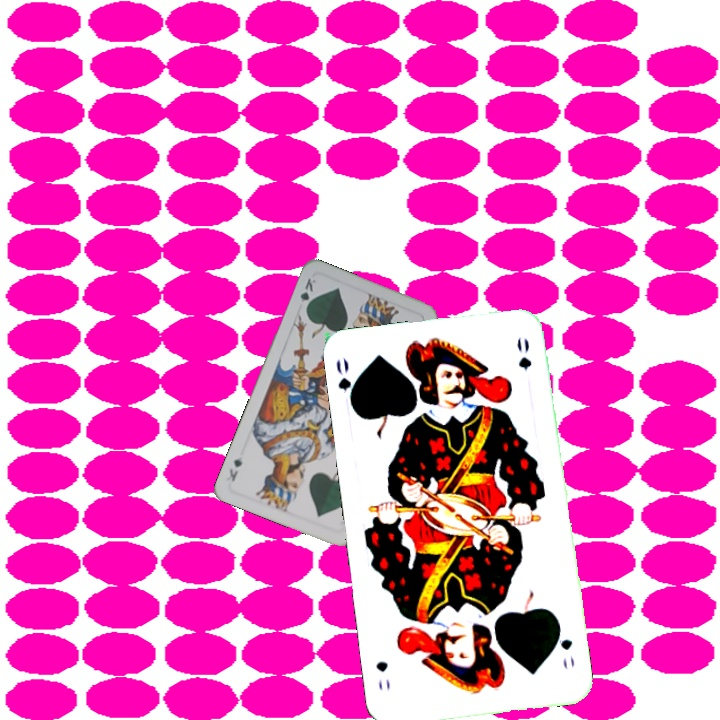GK: (296, 274, 319, 314)
GO: (332, 354, 360, 413), (552, 620, 577, 672)
